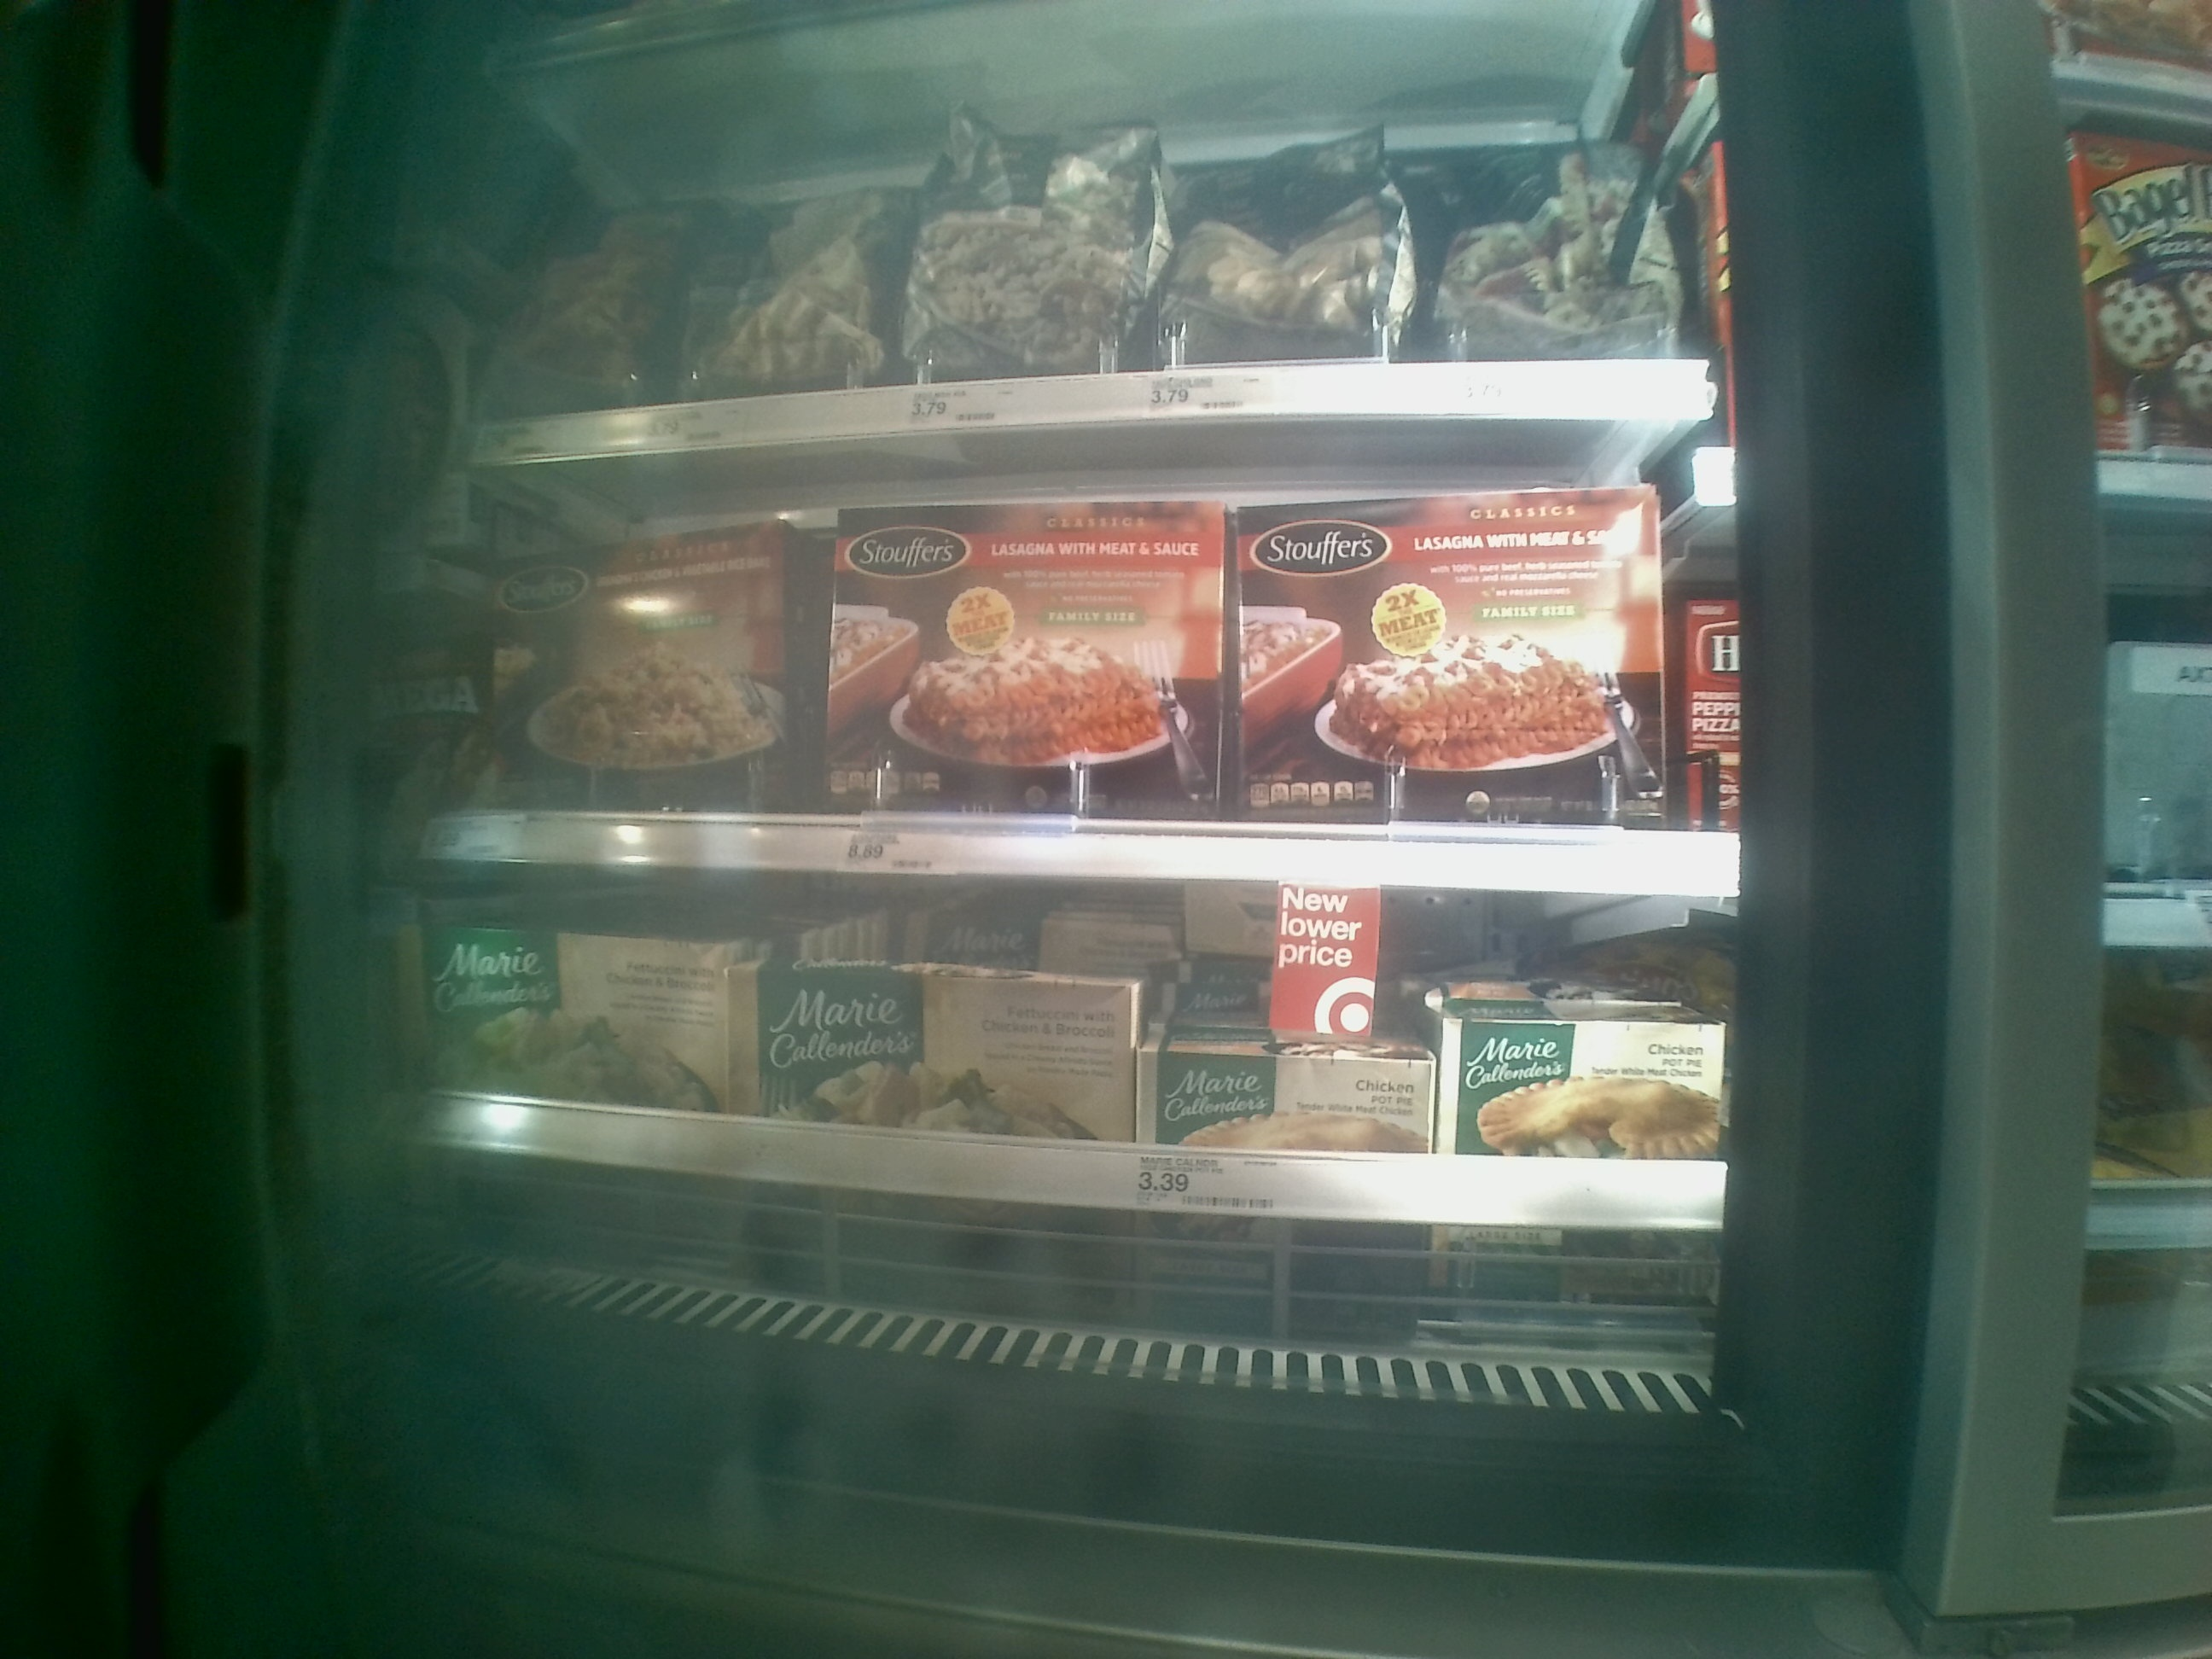frozen-food-shelf: (408, 476, 1717, 887), (421, 892, 1723, 1230)
